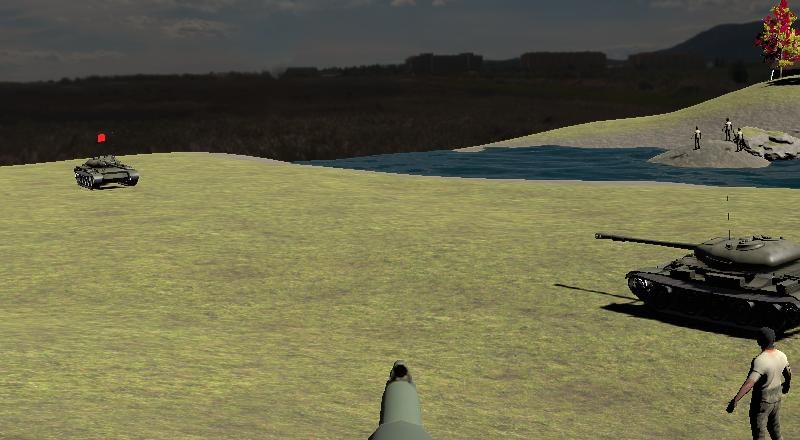Human: (722, 322, 798, 440), (691, 123, 704, 153), (722, 115, 735, 145), (733, 125, 744, 153)
Tank: (591, 225, 800, 342), (71, 151, 142, 193)
